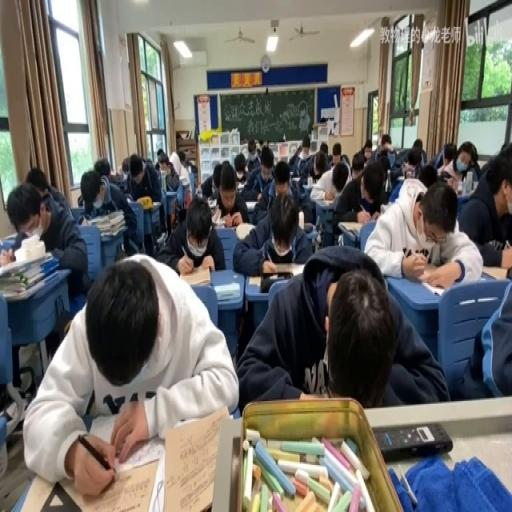calculator: (88, 410, 162, 475), (417, 263, 464, 293), (145, 448, 164, 509), (88, 208, 125, 238), (254, 260, 304, 279), (177, 263, 210, 286), (213, 282, 241, 300), (481, 263, 509, 279), (234, 222, 256, 240), (338, 220, 365, 234), (438, 165, 456, 182), (216, 219, 237, 230), (295, 181, 314, 192), (314, 195, 332, 206), (210, 206, 222, 222), (247, 273, 263, 285), (154, 232, 166, 247), (386, 148, 396, 165), (243, 199, 258, 209), (2, 232, 18, 240), (206, 195, 217, 206), (380, 202, 391, 213), (178, 174, 190, 184), (234, 180, 246, 190), (80, 214, 91, 224), (290, 176, 302, 184), (116, 162, 122, 175), (195, 189, 202, 198), (397, 174, 404, 180)
paper: (26, 253, 236, 495), (236, 247, 443, 411), (366, 176, 483, 288), (1, 175, 88, 304), (454, 269, 512, 402), (230, 188, 312, 273), (154, 192, 224, 273), (332, 158, 390, 242), (210, 161, 248, 226), (126, 152, 160, 206), (391, 138, 427, 183), (92, 155, 124, 193), (310, 168, 348, 199), (298, 138, 326, 179), (479, 138, 504, 173), (480, 239, 510, 267), (296, 189, 318, 226), (25, 166, 50, 196), (348, 138, 370, 171), (242, 135, 261, 171), (272, 158, 290, 196), (418, 162, 438, 188), (460, 142, 478, 168), (439, 144, 456, 169), (186, 158, 198, 193), (162, 164, 178, 189), (288, 142, 302, 169), (259, 144, 273, 169), (376, 154, 390, 176), (234, 156, 246, 180), (331, 142, 342, 168), (120, 155, 130, 179), (379, 134, 392, 152), (340, 152, 350, 172), (318, 142, 328, 158), (155, 148, 165, 161), (178, 149, 186, 165), (302, 135, 310, 151), (413, 136, 422, 150), (314, 164, 324, 176)
person: (373, 422, 451, 461), (303, 220, 315, 232)
